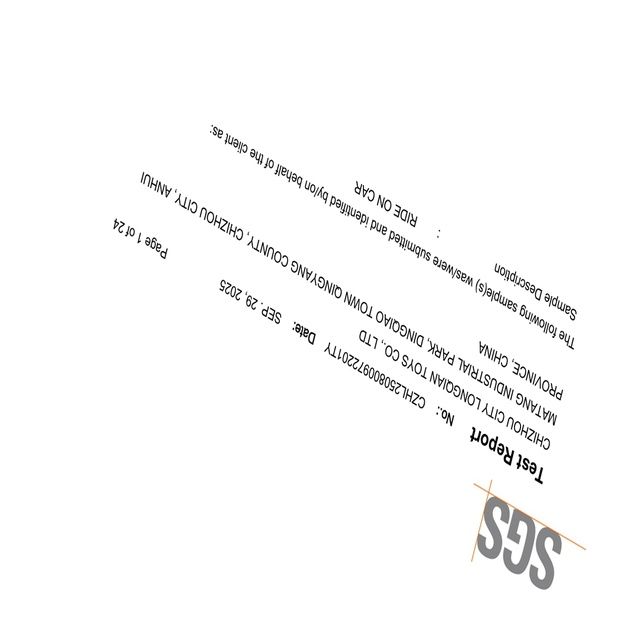sgs: (476, 495, 562, 591)
